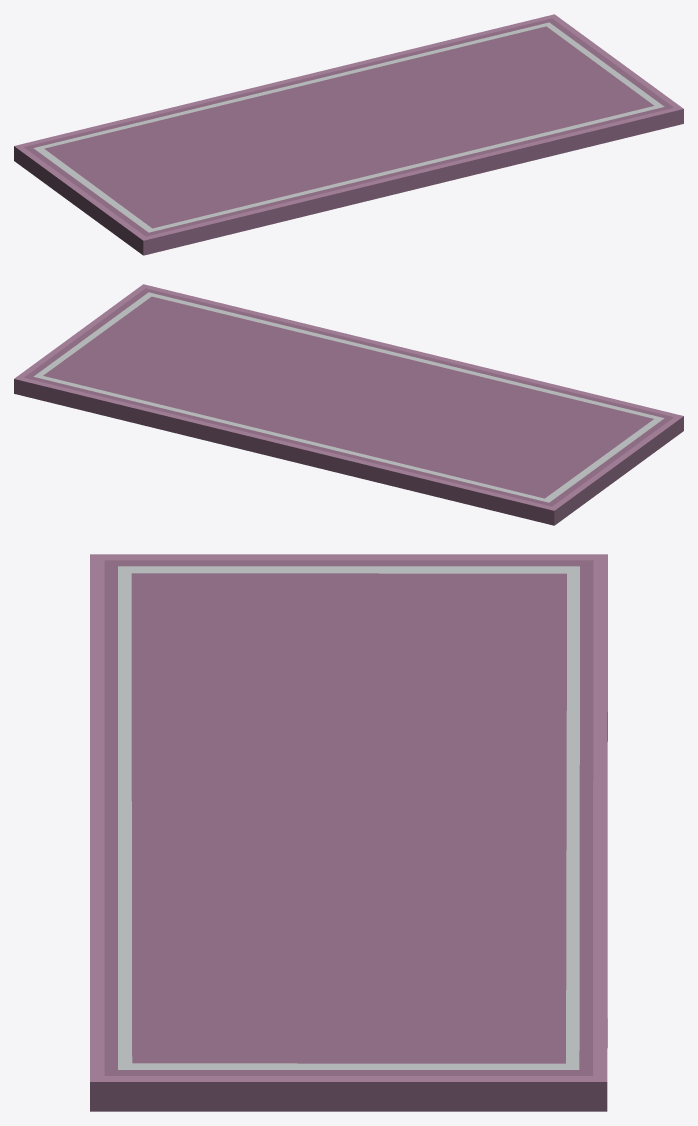
Rendered from HolidayCarpetPurple_8.glb.
3 views of the same model, one above another, from view 1: azimuth 30°, elevation 25°; view 2: azimuth 150°, elevation 25°; view 3: azimuth 270°, elevation 25° (orthographic). The views are drawn at different scales.
Visible parts, largest first — view 1: HolidayCarpetPurple; view 2: HolidayCarpetPurple; view 3: HolidayCarpetPurple.
Boxes of the visible parts, x1,y1,x2,y2 form: HolidayCarpetPurple: [14, 14, 683, 255]; HolidayCarpetPurple: [14, 284, 683, 525]; HolidayCarpetPurple: [90, 554, 607, 1111].
Size of the model in its own units: 7.52 by 0.1983 by 3.12.
